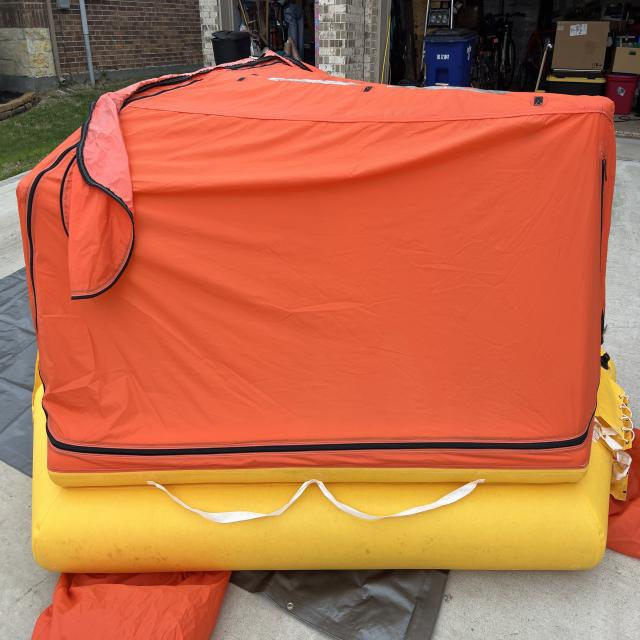Multi-person_life_raft: (17, 48, 640, 639)
